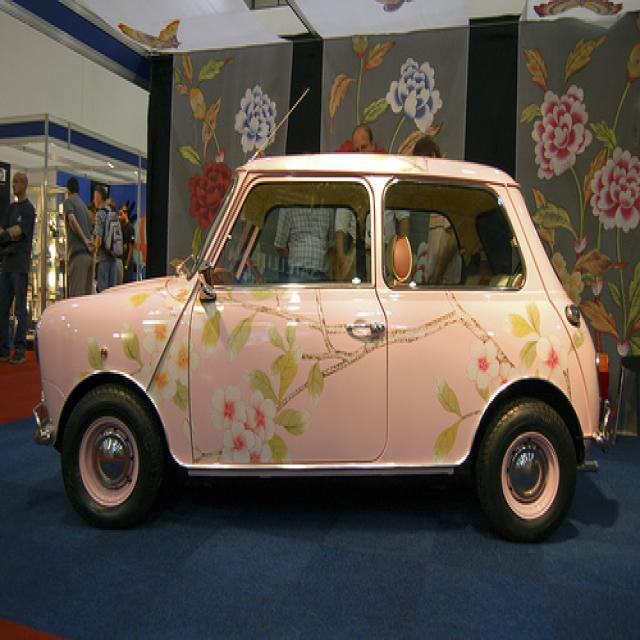light_vehicle: (33, 154, 611, 542)
